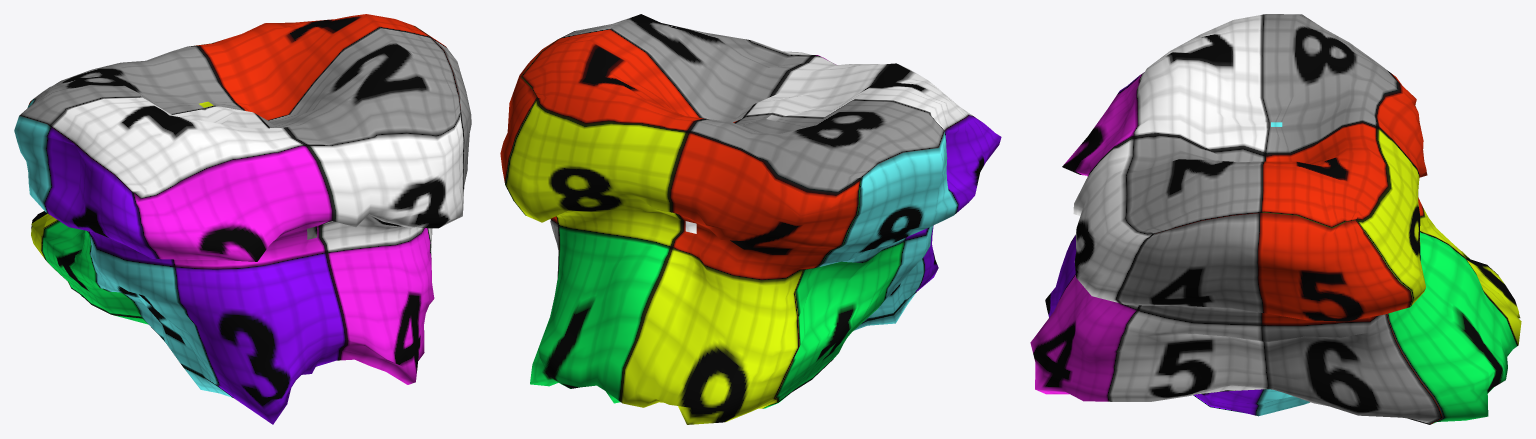
The model's file is Medium cave 3.fbx.
3 renders of one model, left to right at view 1: azimuth 30°, elevation 25°; view 2: azimuth 150°, elevation 25°; view 3: azimuth 270°, elevation 25°, orthographic. The views are drawn at different scales.
Parts seen in each view (by area): view 1: pCube13; view 2: pCube13; view 3: pCube13.
Boxes of the visible parts, x1,y1,x2,y2 form: pCube13: (14,14,471,424); pCube13: (500,14,1001,424); pCube13: (1030,14,1521,424).
Size of the model in its own units: 690 by 488 by 681.
Materials: 1 (1 with a texture image).
